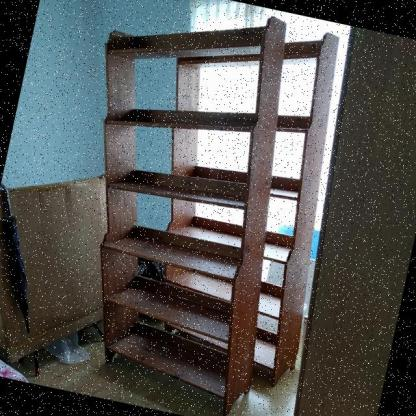Shelf: (29, 0, 369, 416)
